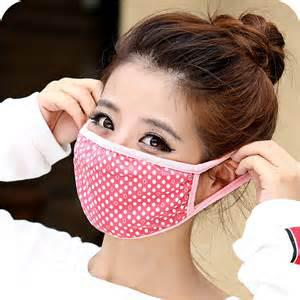OK: (79, 98, 199, 231)
